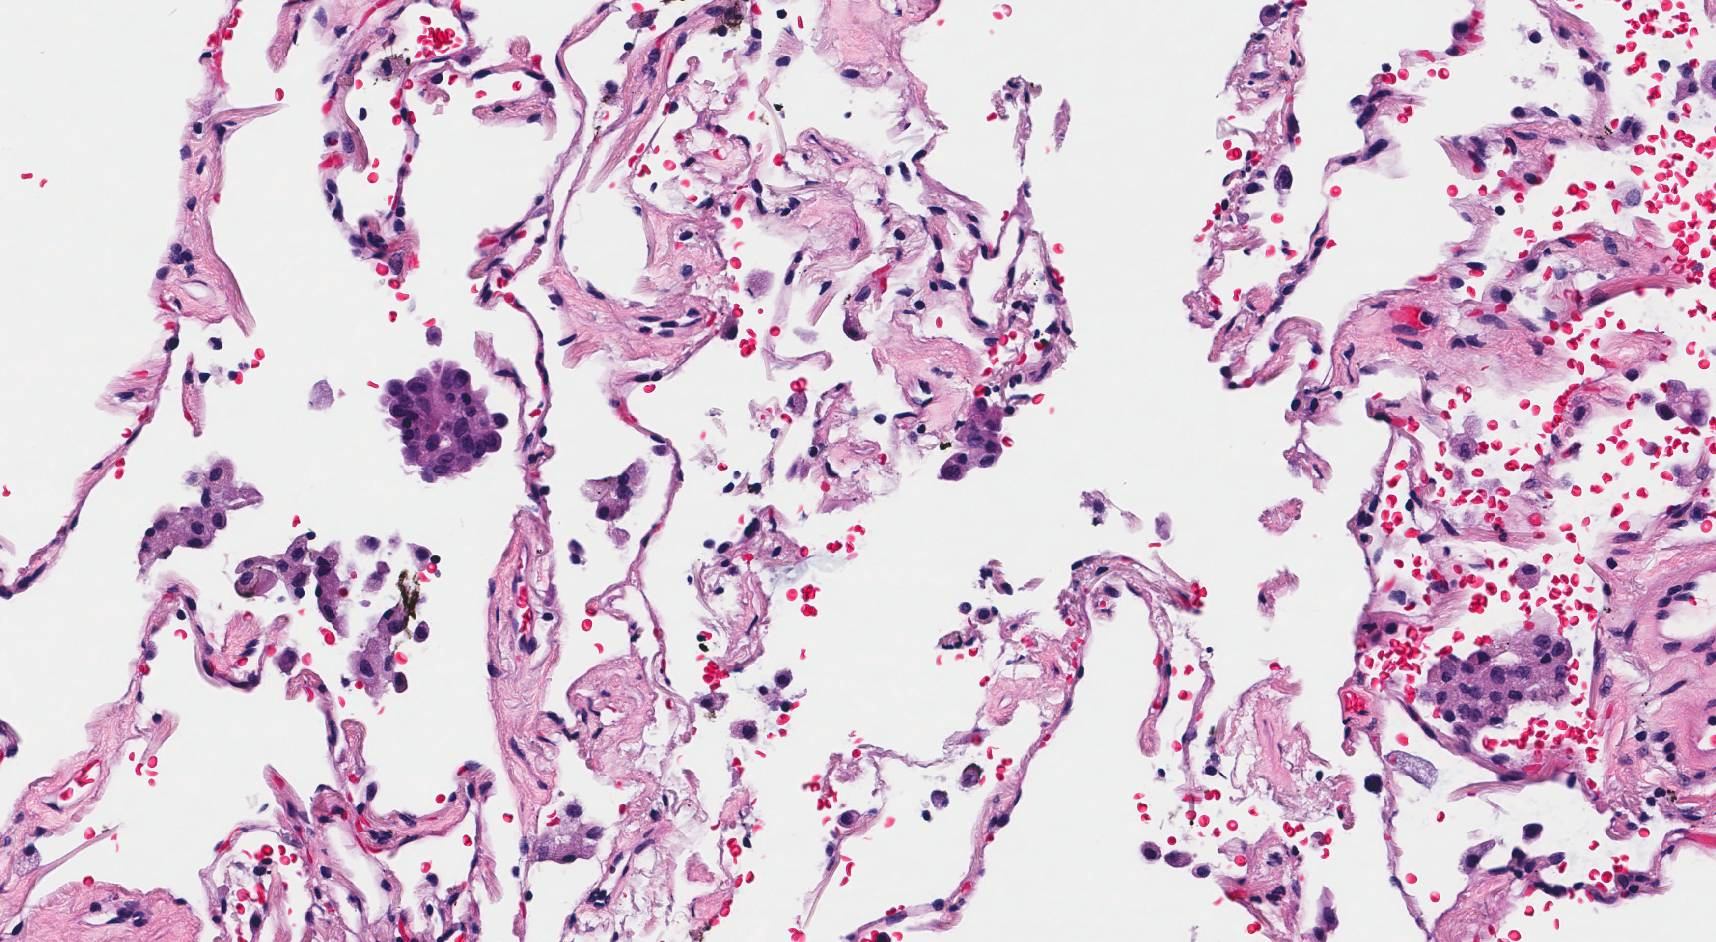stas: (384, 360, 509, 483), (939, 396, 1003, 482)
